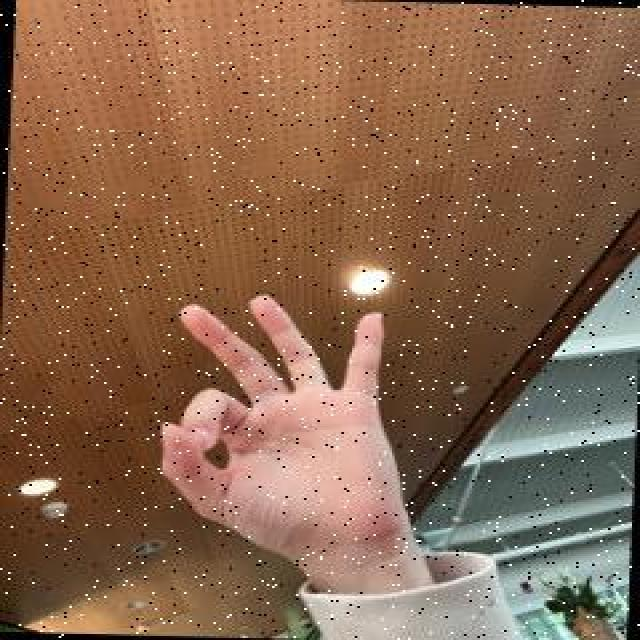F: (148, 286, 417, 566)
